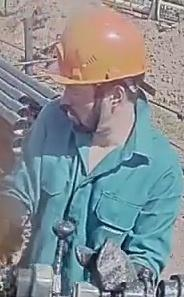gloves: (75, 236, 151, 295)
helmet: (48, 2, 147, 91)
vest: (2, 94, 183, 295)
